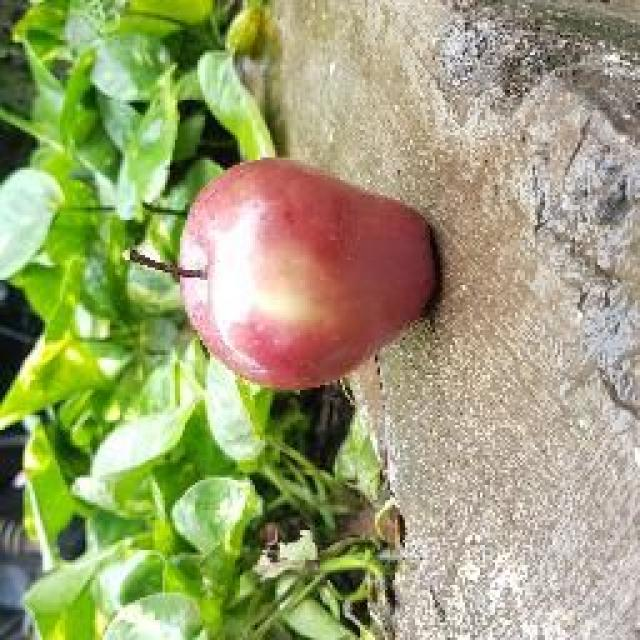Good_Apple: (172, 158, 442, 392)
